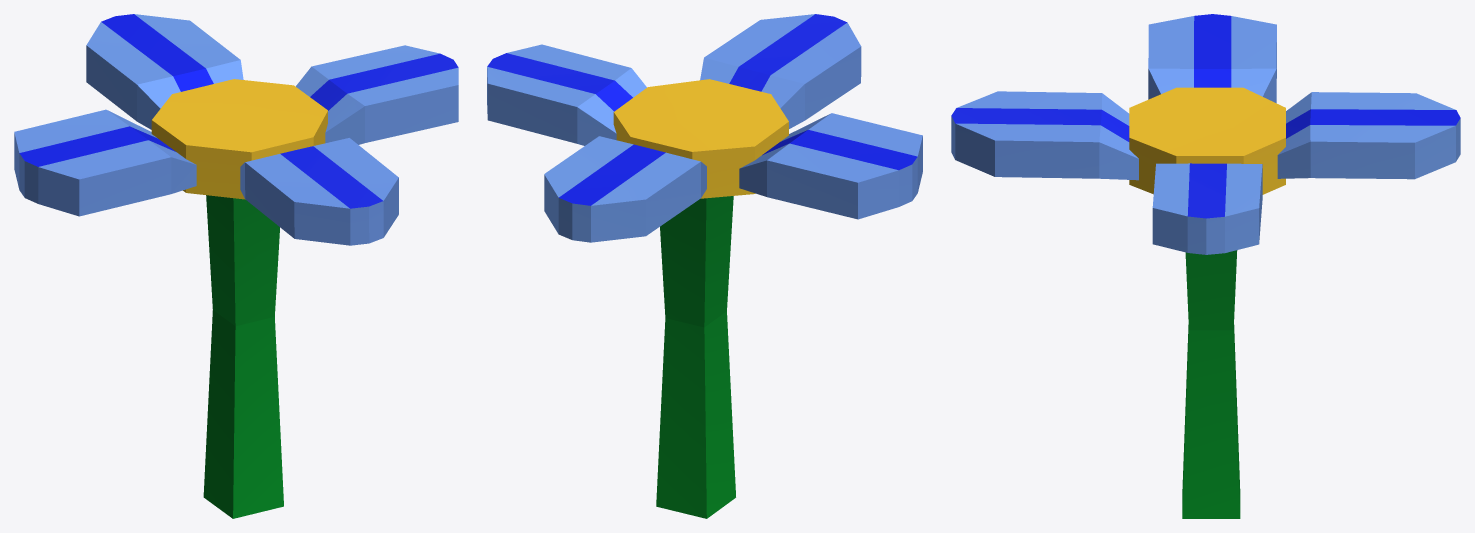
Rendered from Flor5.fbx.
The picture shows the model from 3 angles, left to right: view 1: azimuth 30°, elevation 25°; view 2: azimuth 150°, elevation 25°; view 3: azimuth 270°, elevation 25°; orthographic projection.
Parts seen in each view (by area): view 1: Flor5; view 2: Flor5; view 3: Flor5.
Part boxes in pixels (left/top/right/bottom): Flor5: left=14, top=14, right=458, bottom=518; Flor5: left=487, top=14, right=922, bottom=518; Flor5: left=951, top=14, right=1460, bottom=518.
Size of the model in its own units: 1666 by 1754 by 1474.
